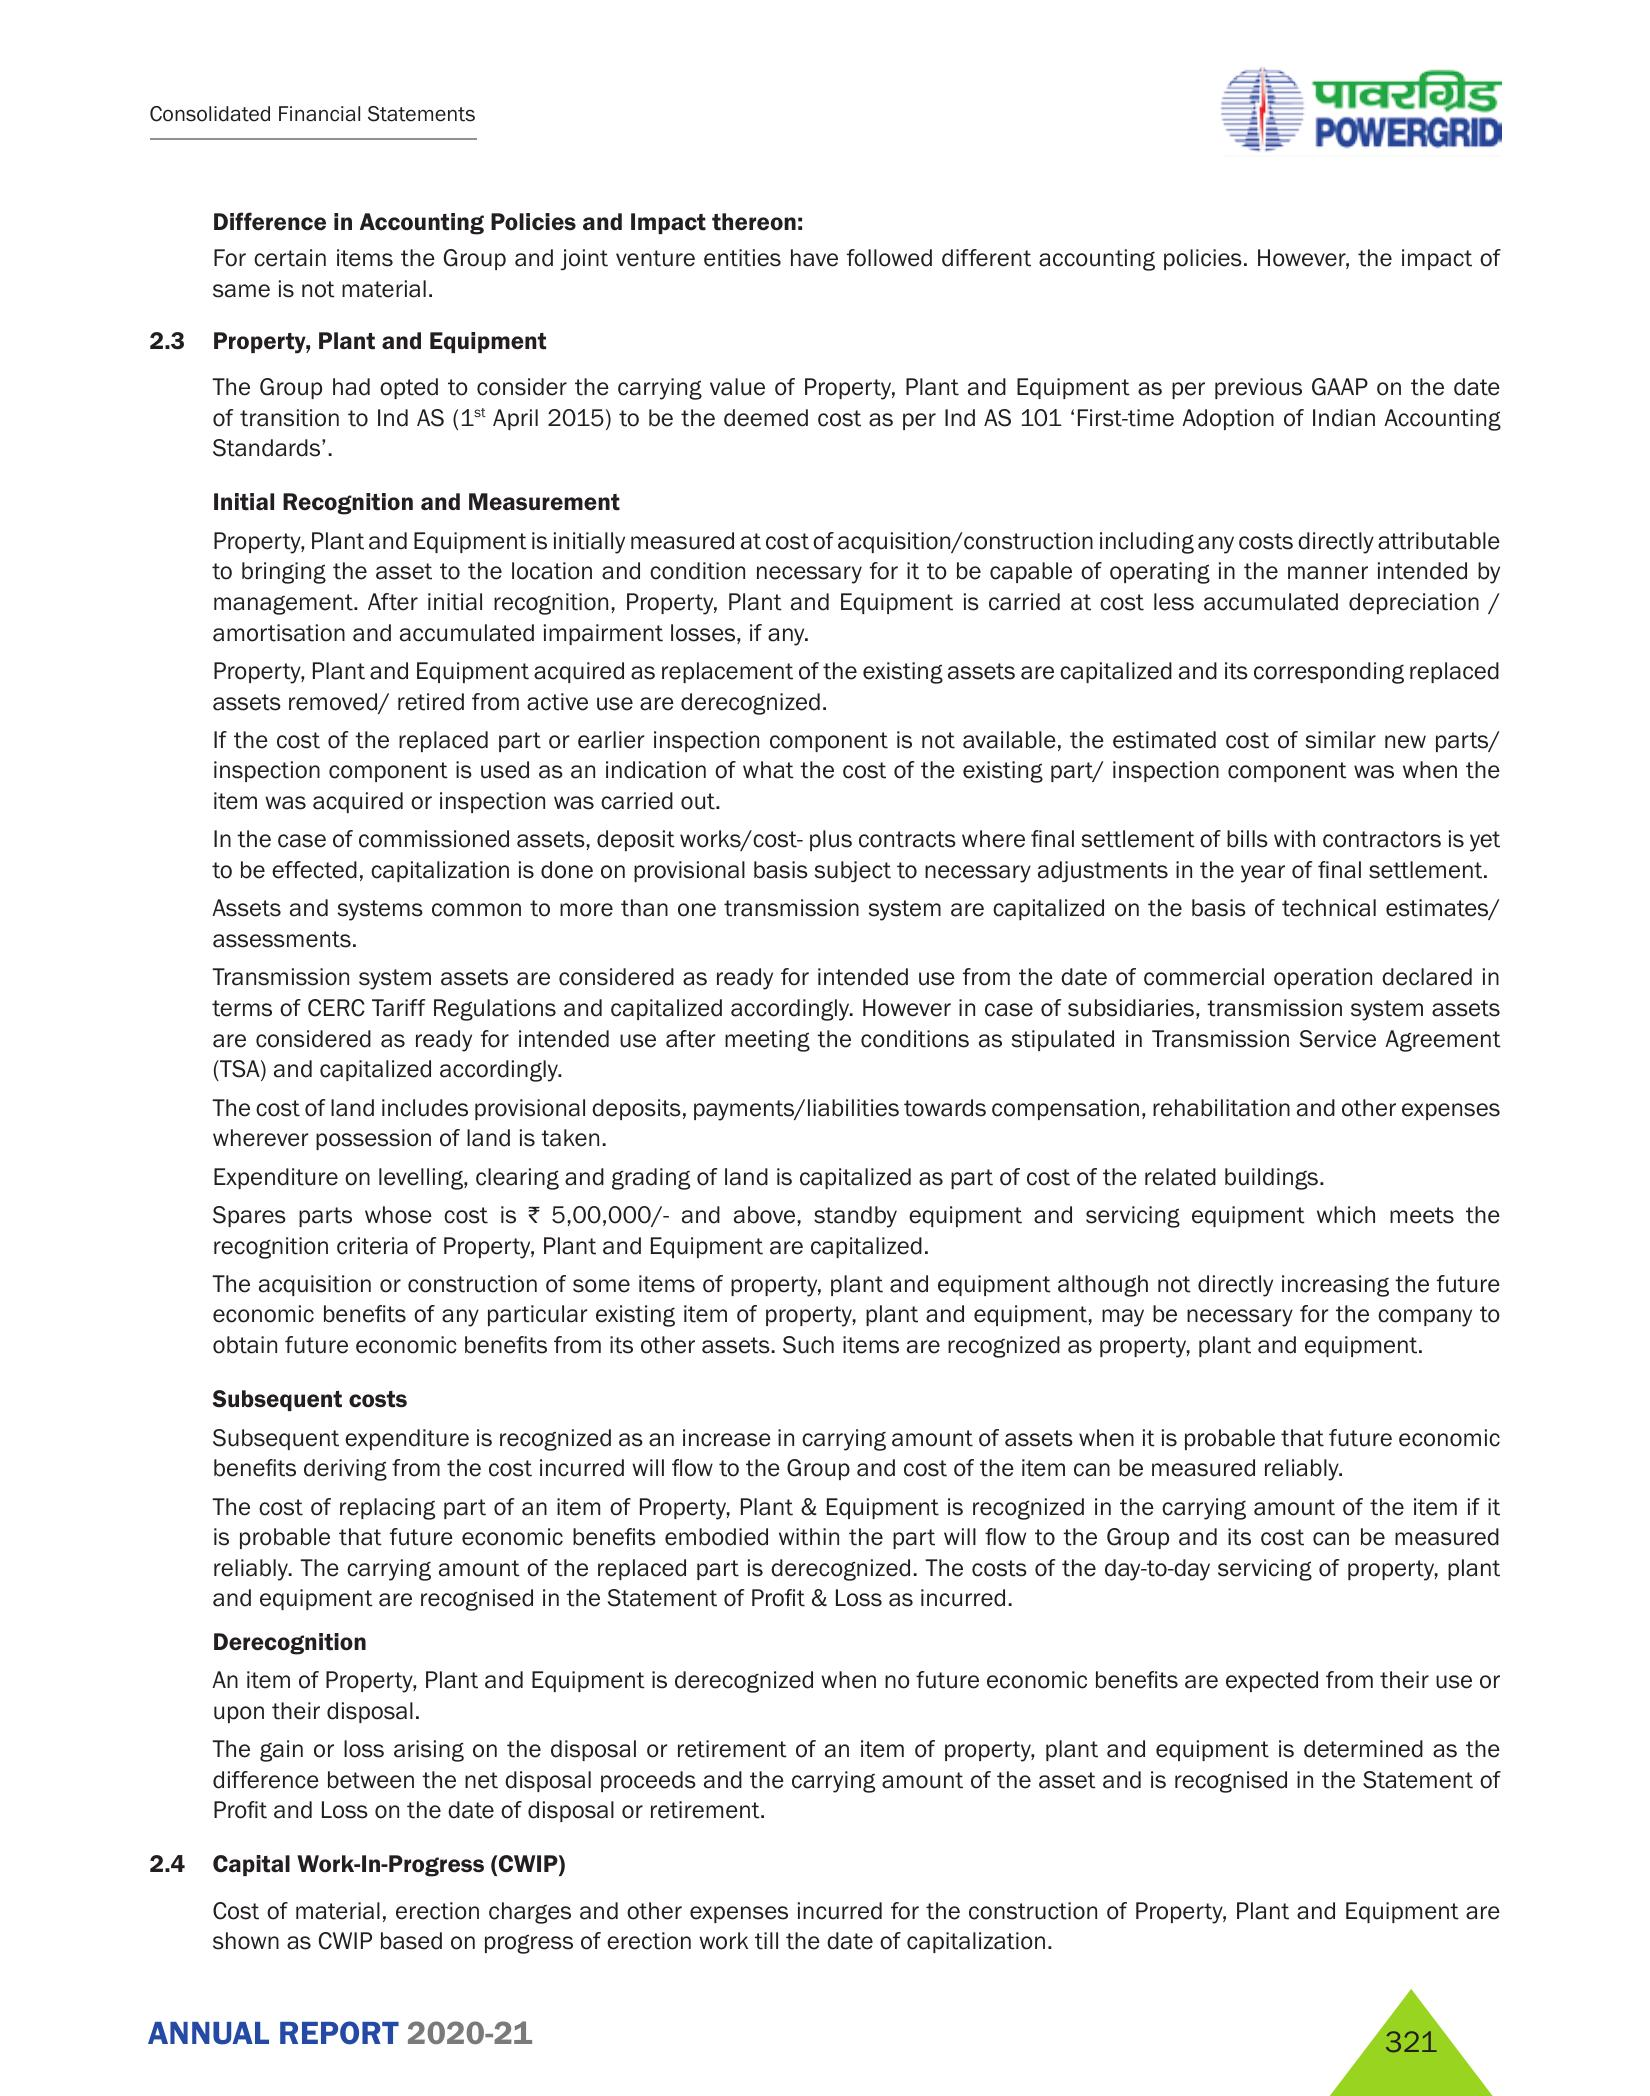Footer: (0, 1950, 1650, 2096)
Header: (0, 0, 1650, 168)
